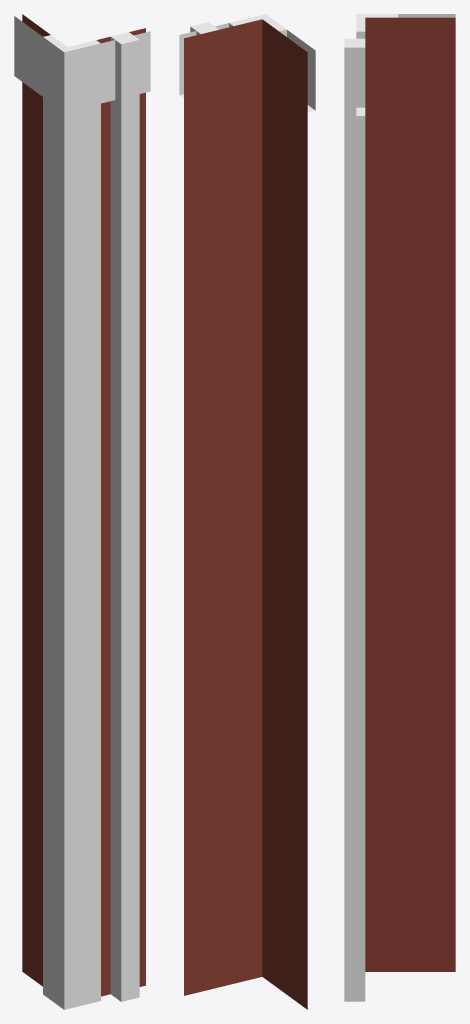
File: mid-c1.fbx
3 renders of one model, left to right at view 1: azimuth 30°, elevation 25°; view 2: azimuth 210°, elevation 25°; view 3: azimuth 270°, elevation 25°, orthographic.
Parts seen in each view (by area): view 1: a2000/200/mid-c1; view 2: a2000/200/mid-c1; view 3: a2000/200/mid-c1.
Boxes of the visible parts, bbox=[...] form: a2000/200/mid-c1: bbox=[14, 14, 150, 1009]; a2000/200/mid-c1: bbox=[179, 14, 315, 1009]; a2000/200/mid-c1: bbox=[344, 14, 455, 1001].
Size of the model in its own units: 0.33 by 3.5 by 0.37.
